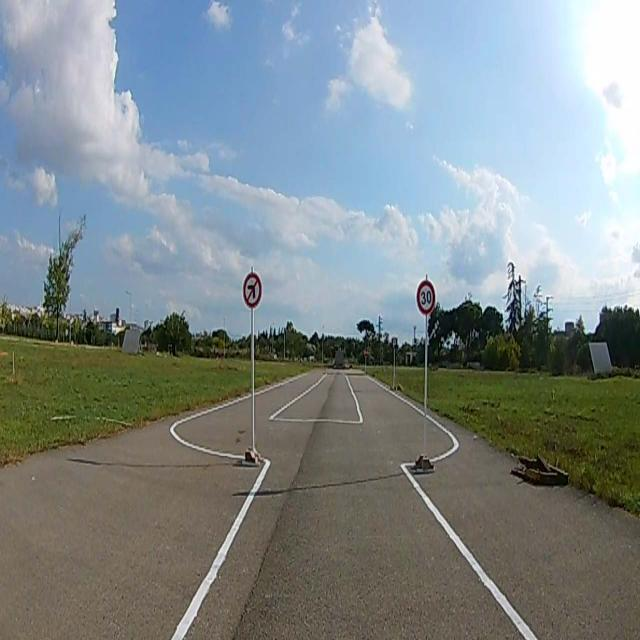30: (416, 282, 436, 314)
soladonulmez: (244, 273, 262, 307)
